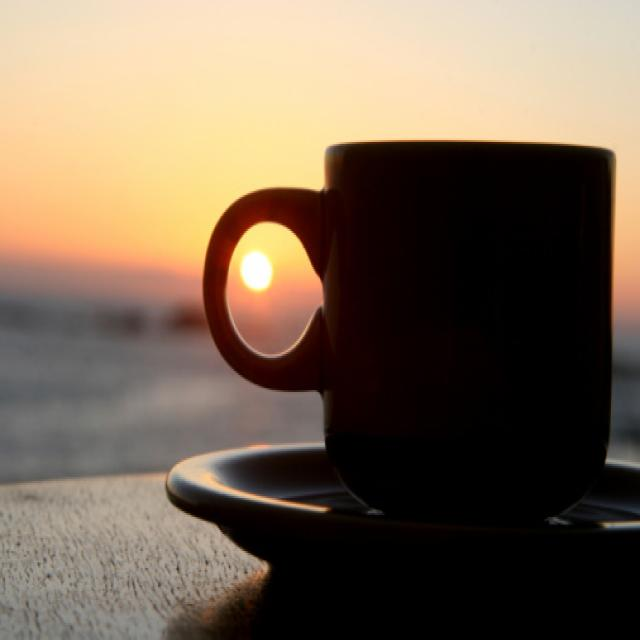Cup: (168, 141, 640, 613)
